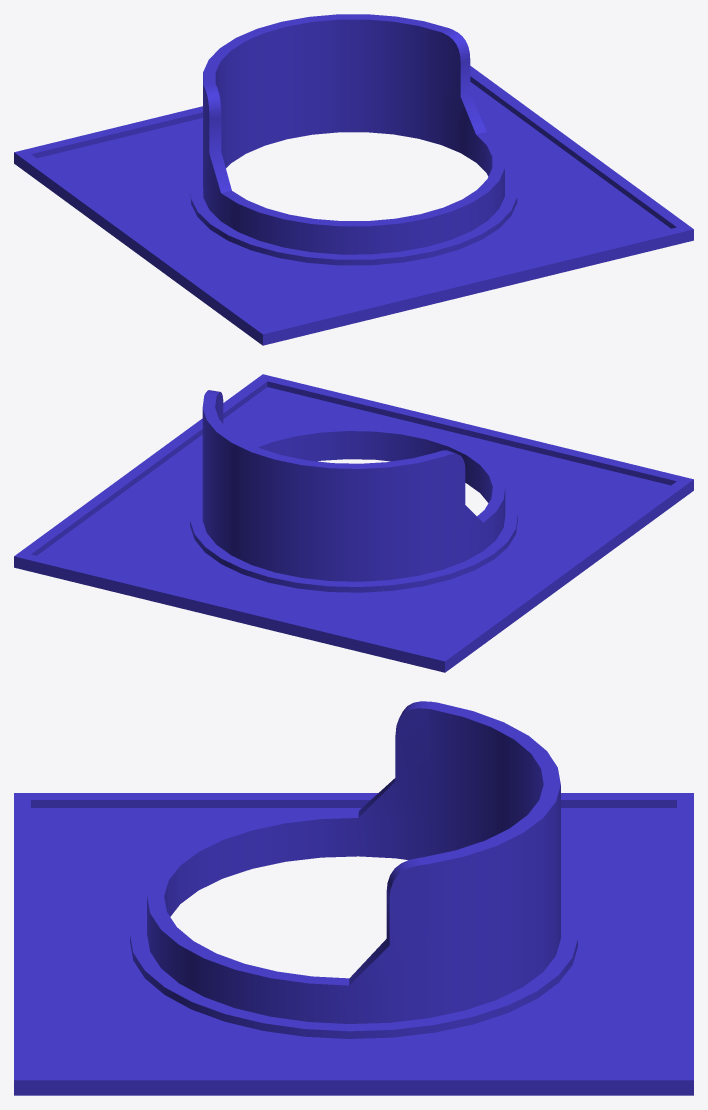
File: Ceiling_A_4x4m_LadderTranzite.FBX
3 renders of one model, top to bottom at view 1: azimuth 30°, elevation 25°; view 2: azimuth 150°, elevation 25°; view 3: azimuth 270°, elevation 25°, orthographic. The views are drawn at different scales.
Visible parts, largest first — view 1: Ceiling_A_4x4m_LadderTranzite; view 2: Ceiling_A_4x4m_LadderTranzite; view 3: Ceiling_A_4x4m_LadderTranzite.
Part boxes in pixels (x1,y1,x2,y2): Ceiling_A_4x4m_LadderTranzite: (14, 14, 693, 345); Ceiling_A_4x4m_LadderTranzite: (14, 374, 693, 672); Ceiling_A_4x4m_LadderTranzite: (14, 701, 693, 1095).
Size of the model in its own units: 400 by 110 by 400.
